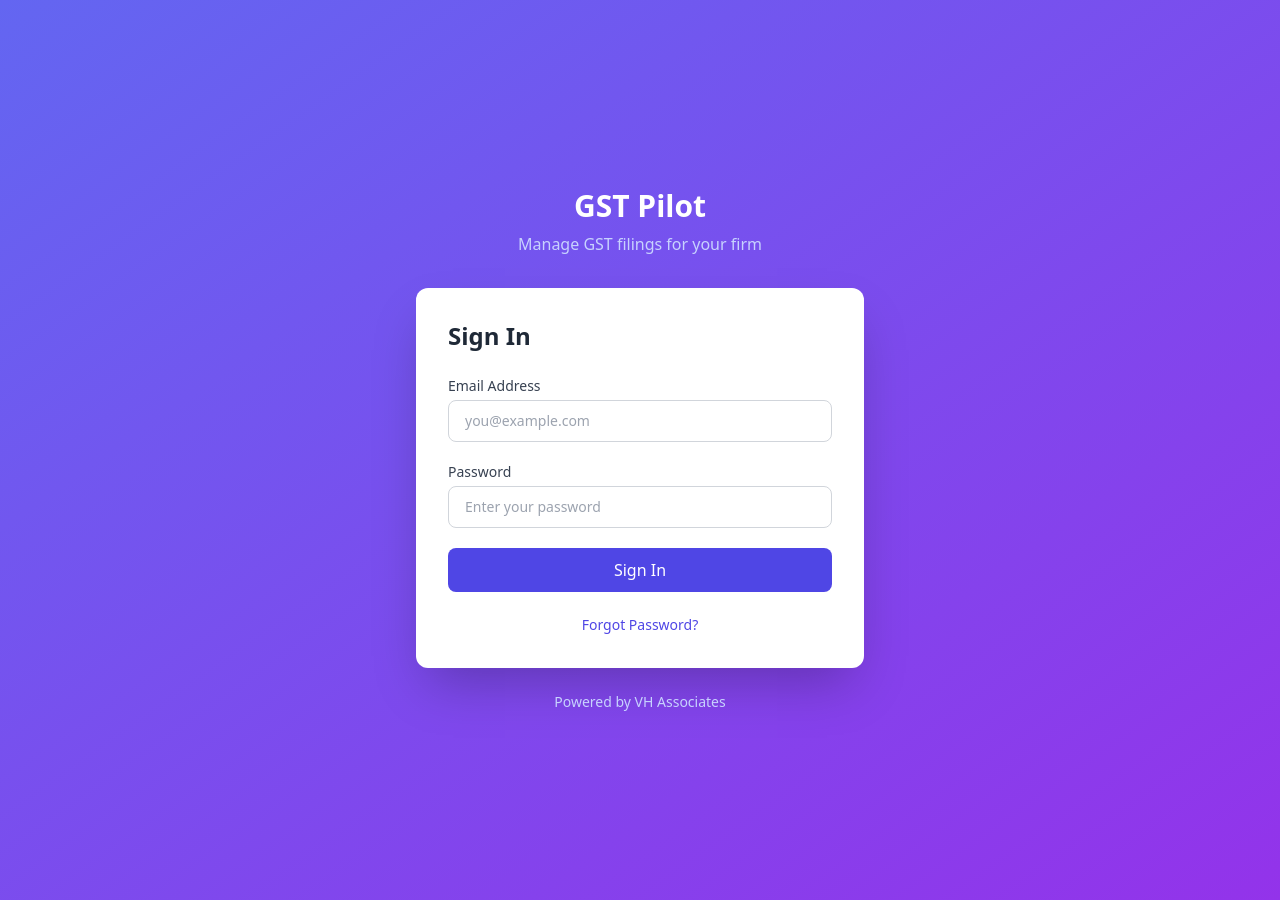
Login page — Branding & Form › 1.2 — Wrong password shows error message
Type "admin@test.com" into the field labelled "Email Address" at (640, 421), box x1=448 y1=400 x2=832 y2=442
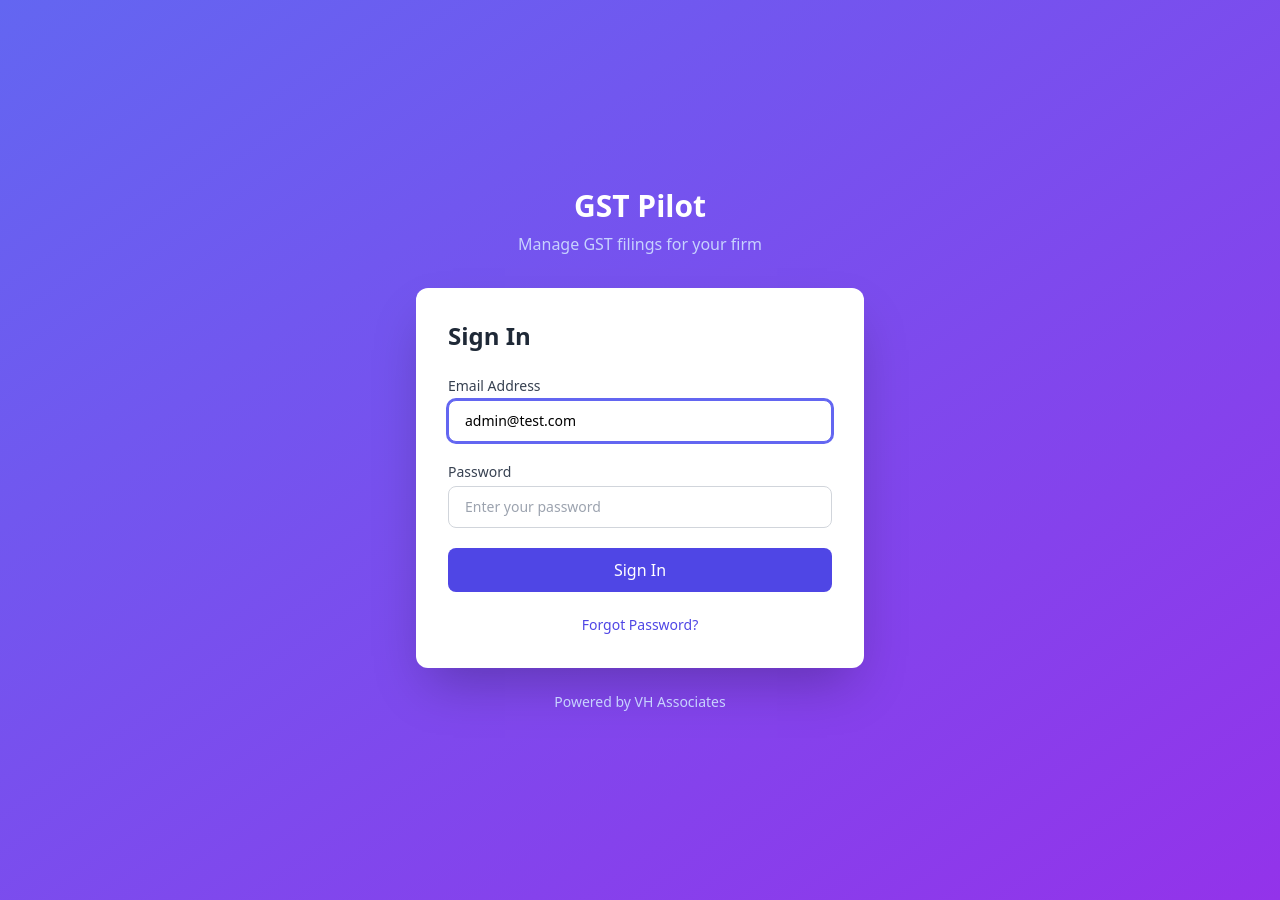
Type "WrongPassword!" into the password field labelled "Password" at (640, 507), box x1=448 y1=486 x2=832 y2=528
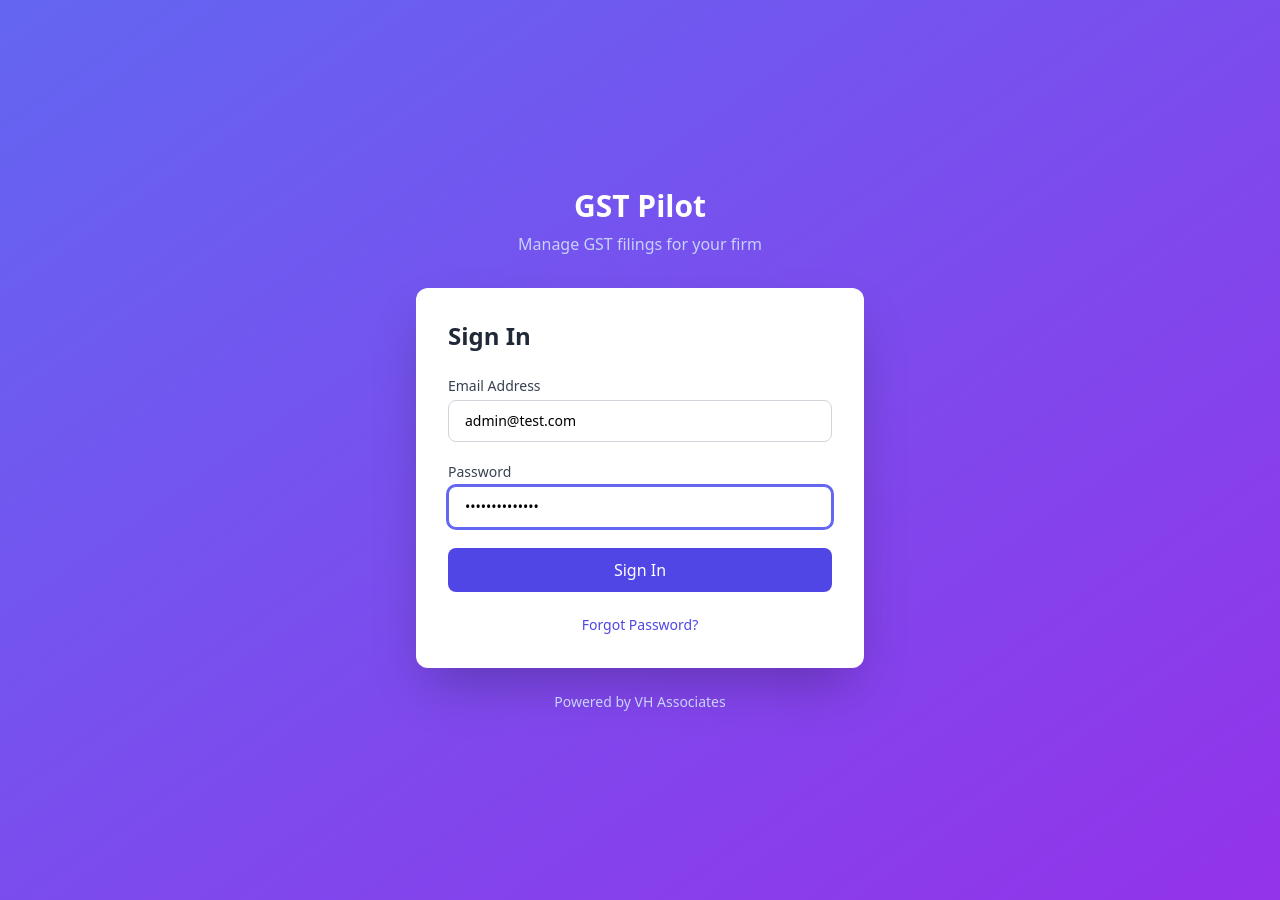
Click the button "Sign In" at (640, 570), box x1=448 y1=548 x2=832 y2=592
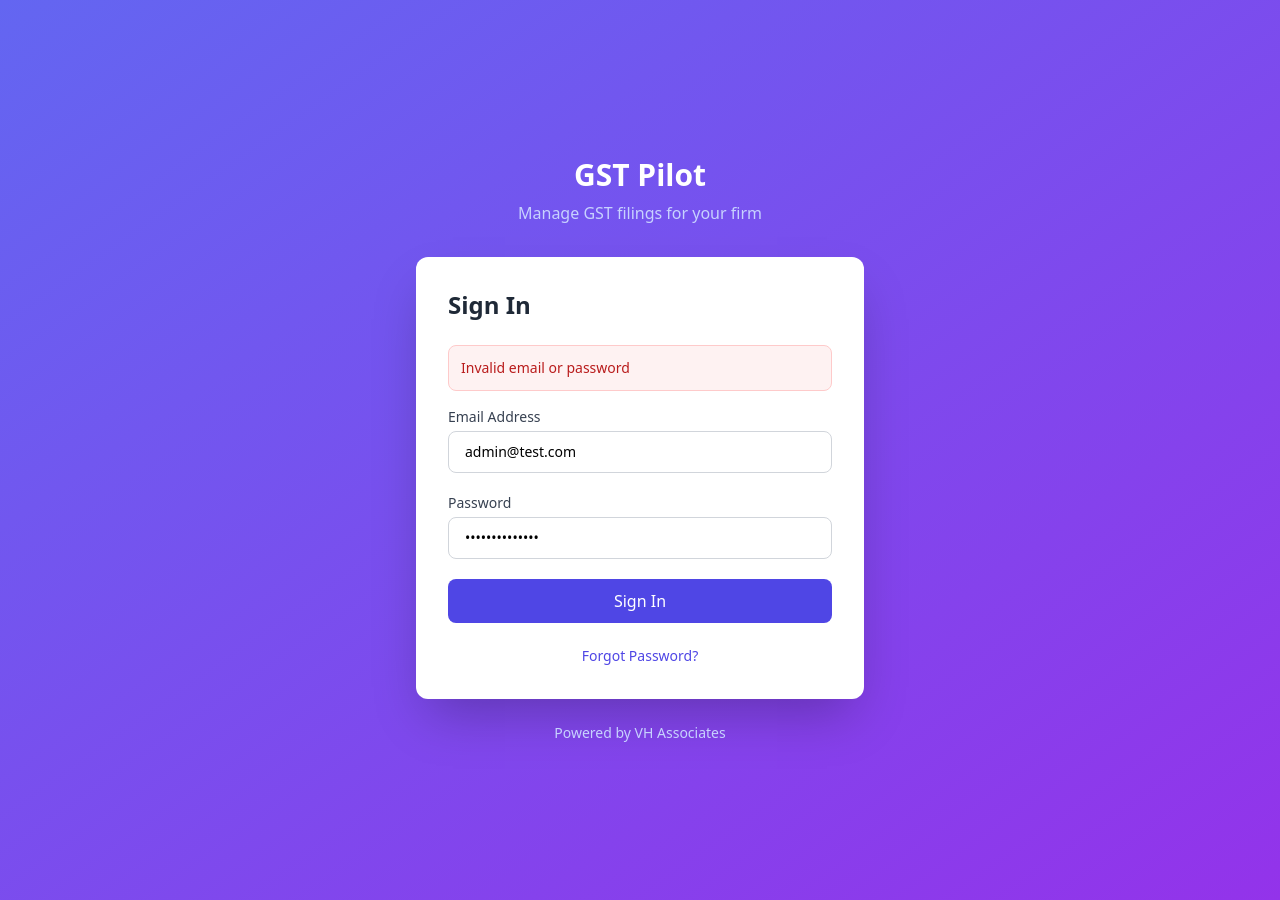
expect the text "Invalid email or password" is shown: met, box x1=448 y1=345 x2=832 y2=391
